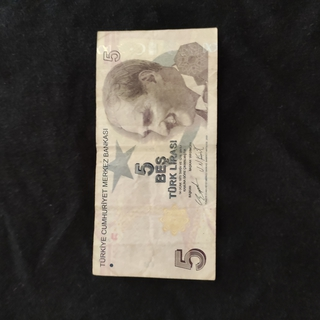5TLFront: (92, 27, 217, 281)
